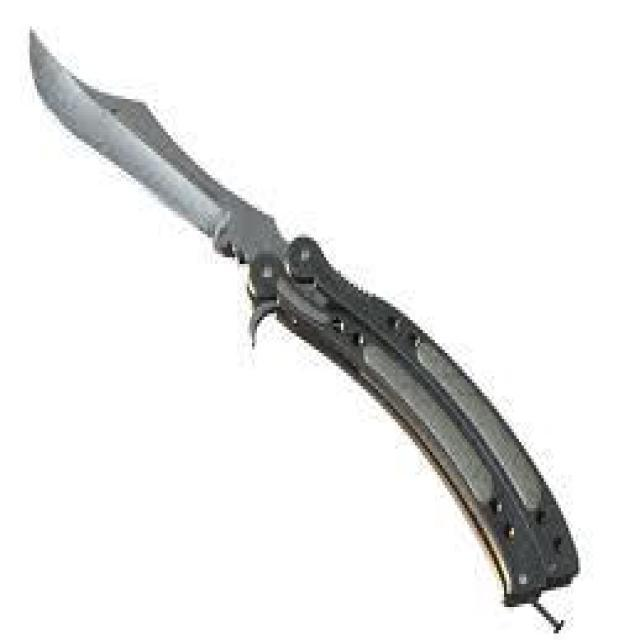Knife: (13, 13, 589, 629)
